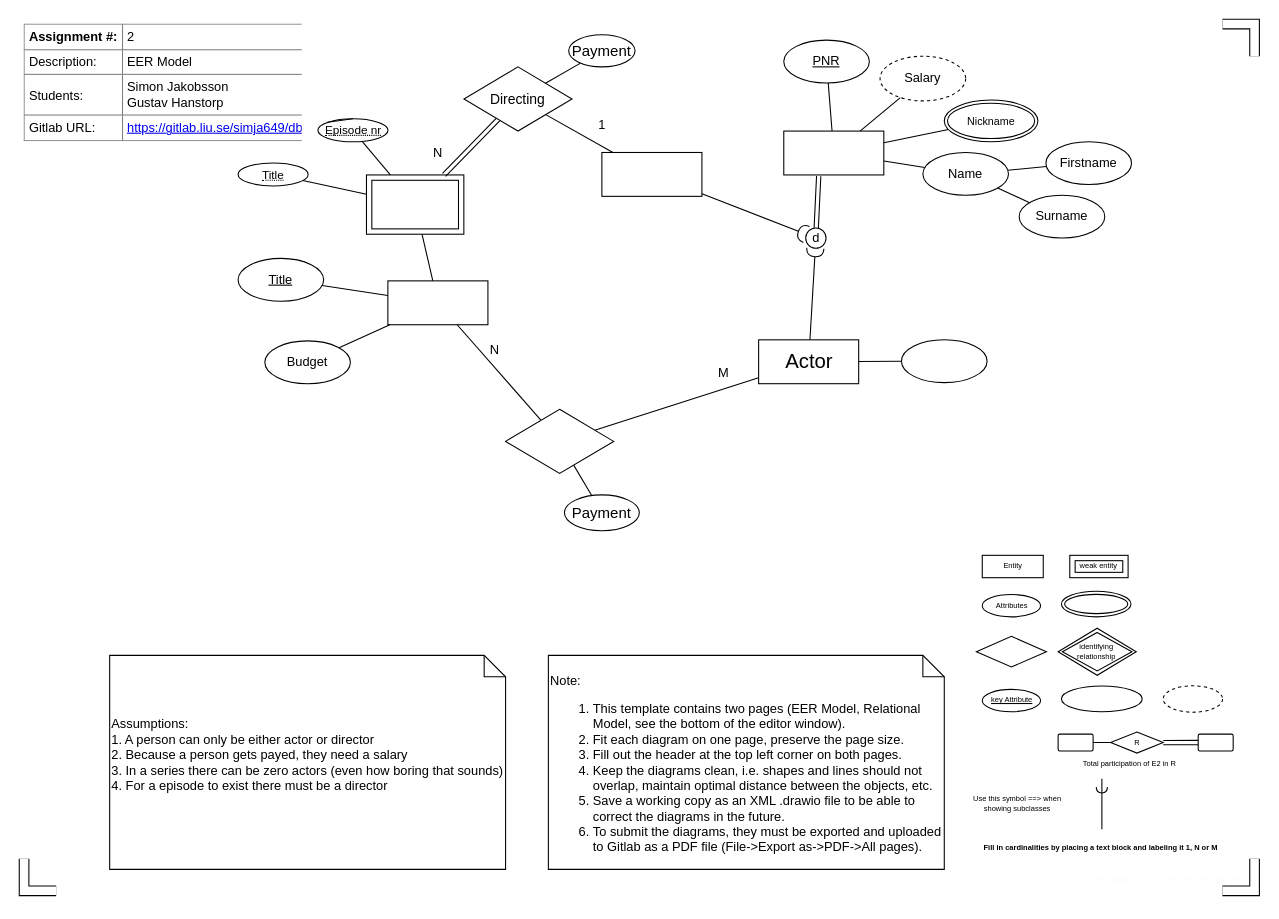
Some shapes in this 1279 by 919 pixel diagram are drawn without their labels. The shapes that lost their labels are listed below. From the top down, each one's centre as x and y in pixels, then its label:
pixel 833 152: Person
pixel 651 173: Director
pixel 414 204: Episode
pixel 437 302: TV-serie
pixel 943 361: Rating
pixel 559 440: Acting
pixel 1095 603: multivalued attribute
pixel 1010 651: Relationship
pixel 1101 698: part of key attribute
pixel 1192 698: derived attribute
pixel 1075 742: E1
pixel 1215 742: E2
